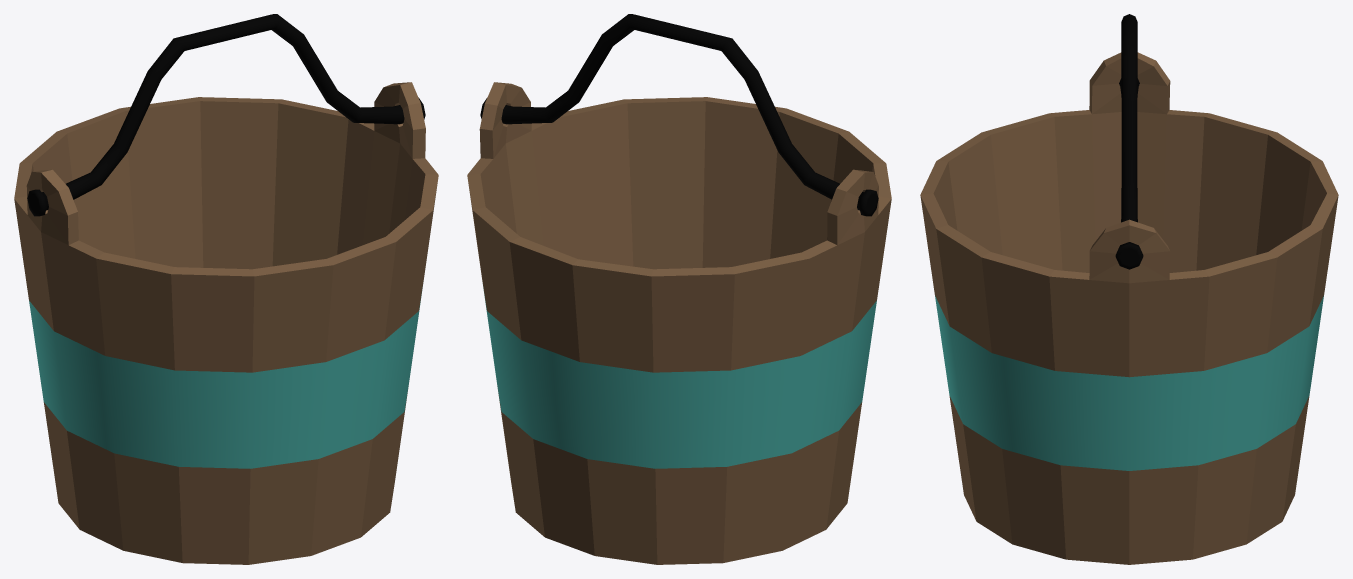
File: cubeta.fbx
3 views of the same model, side by side, from view 1: azimuth 30°, elevation 25°; view 2: azimuth 150°, elevation 25°; view 3: azimuth 270°, elevation 25° (orthographic). The views are drawn at different scales.
Visible parts, largest first — view 1: cubeta; view 2: cubeta; view 3: cubeta.
Boxes of the visible parts, x1,y1,x2,y2 form: cubeta: (14,14,438,564); cubeta: (467,14,891,564); cubeta: (920,14,1338,564).
Bounding box in the file's own units: 254 × 295 × 245.
